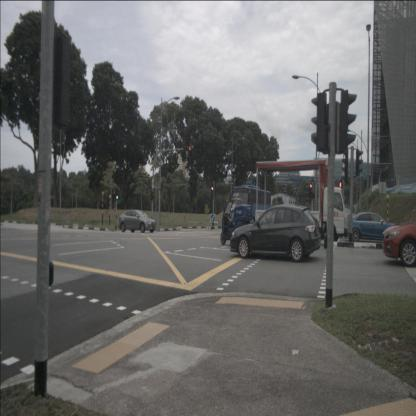vehicle-bus-rigid: (232, 184, 271, 227)
vehicle-car: (230, 204, 321, 262), (345, 212, 399, 242), (382, 222, 416, 267), (118, 208, 156, 233)
vehicle-motorcycle: (221, 198, 255, 247)
vehicle-truck: (256, 159, 346, 251)
